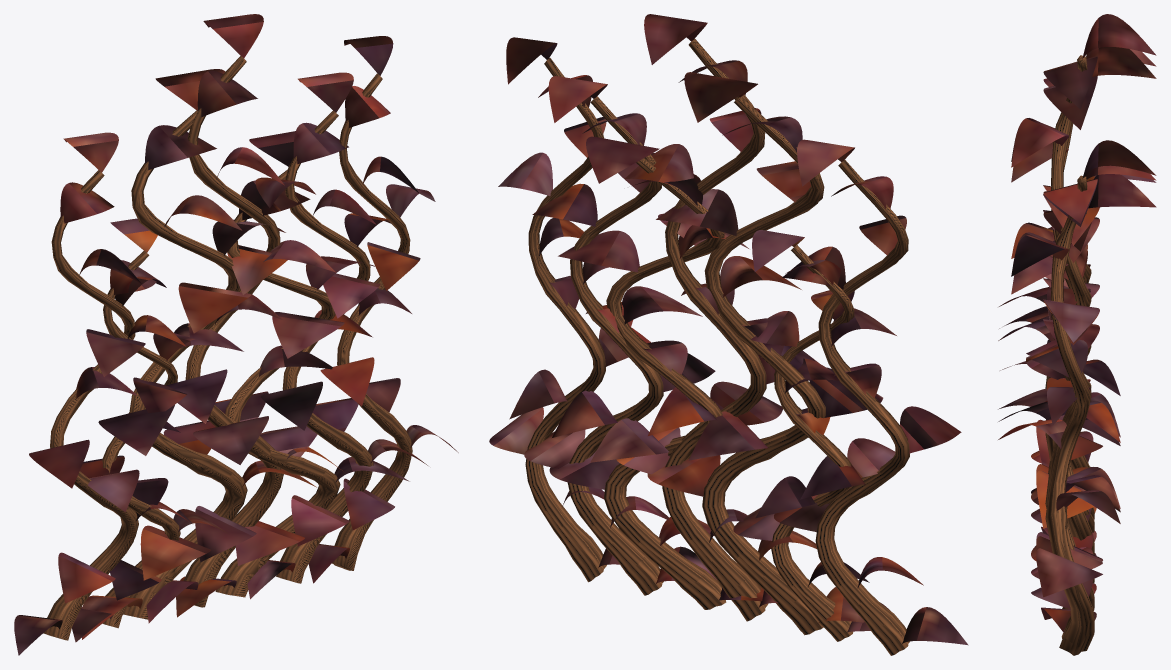
File: rustvine_03.glb
3 renders of one model, left to right at view 1: azimuth 30°, elevation 25°; view 2: azimuth 150°, elevation 25°; view 3: azimuth 270°, elevation 25°, orthographic. The views are drawn at different scales.
Parts seen in each view (by area): view 1: export; view 2: export; view 3: export.
Boxes of the visible parts, x1=… form: export: x1=14, y1=14, x2=458, y2=655; export: x1=489, y1=14, x2=968, y2=655; export: x1=998, y1=14, x2=1156, y2=655.
Bounding box in the file's own units: 2.36 × 2.9 × 0.7237.
2 materials, 2 textured.
